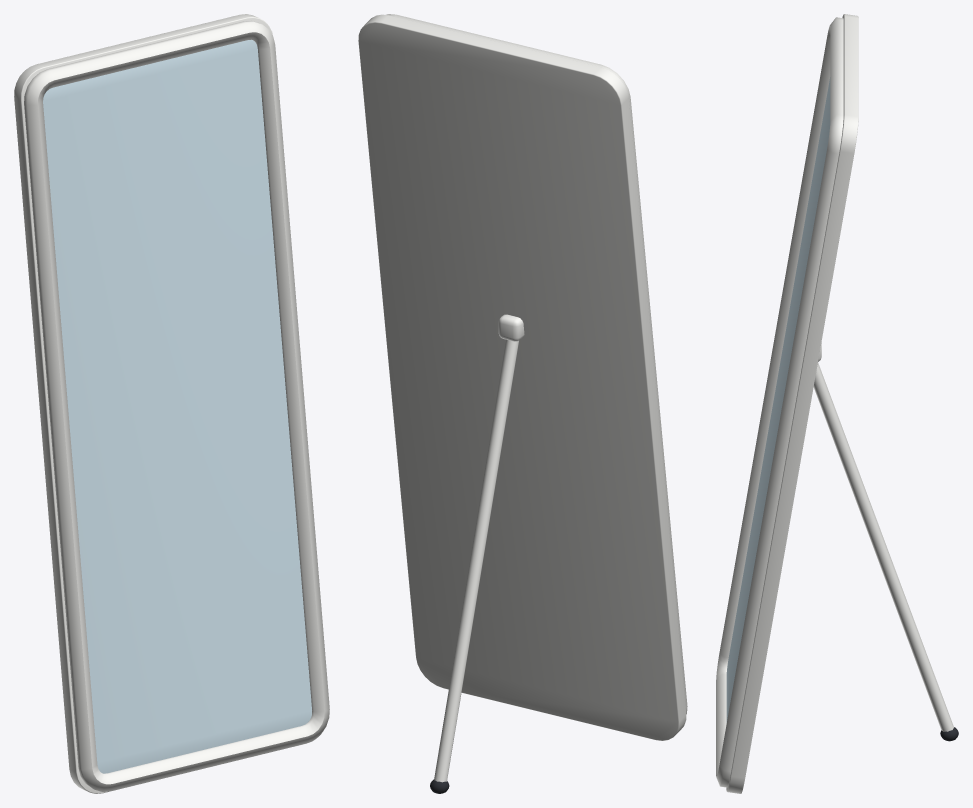
Rendered from espelho_chao_branco.glb.
The picture shows the model from 3 angles, left to right: view 1: azimuth 30°, elevation 25°; view 2: azimuth 150°, elevation 25°; view 3: azimuth 270°, elevation 25°; orthographic projection. The views are drawn at different scales.
Visible parts, largest first — view 1: espelho_chao_branco; view 2: espelho_chao_branco; view 3: espelho_chao_branco.
Part boxes in pixels (x1,y1,x2,y2): espelho_chao_branco: [14, 14, 329, 793]; espelho_chao_branco: [358, 14, 687, 793]; espelho_chao_branco: [716, 14, 958, 793].
Bounding box in the file's own units: 0.62 × 1.6 × 0.5218.
2 materials, 1 textured.
